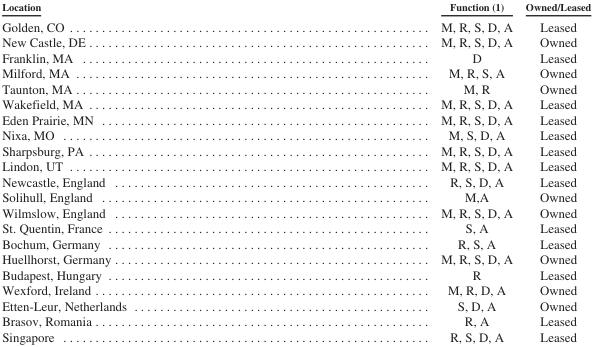table: (1, 0, 590, 343)
table column: (1, 0, 283, 343), (283, 0, 518, 343), (518, 0, 590, 343)
table column header: (1, 0, 590, 15)
table row: (1, 15, 590, 34), (1, 49, 590, 65), (1, 80, 590, 96), (1, 111, 590, 127), (1, 142, 590, 158), (1, 173, 590, 189), (1, 204, 590, 220), (1, 235, 590, 251), (1, 266, 590, 282), (1, 297, 590, 313), (1, 0, 590, 15), (1, 34, 590, 49), (1, 65, 590, 80), (1, 96, 590, 111), (1, 127, 590, 142), (1, 158, 590, 173), (1, 189, 590, 204), (1, 220, 590, 235), (1, 251, 590, 266), (1, 282, 590, 297), (1, 313, 590, 328), (1, 328, 590, 343)
